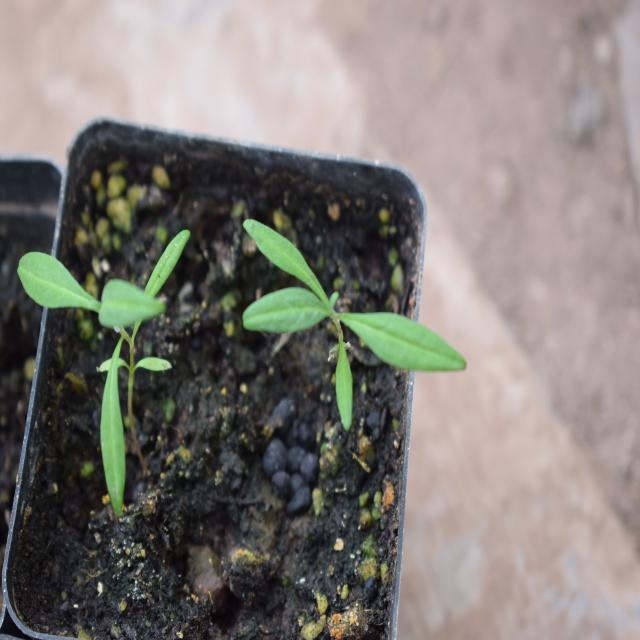white_smart_weed: (0, 212, 180, 499), (263, 226, 468, 422)
